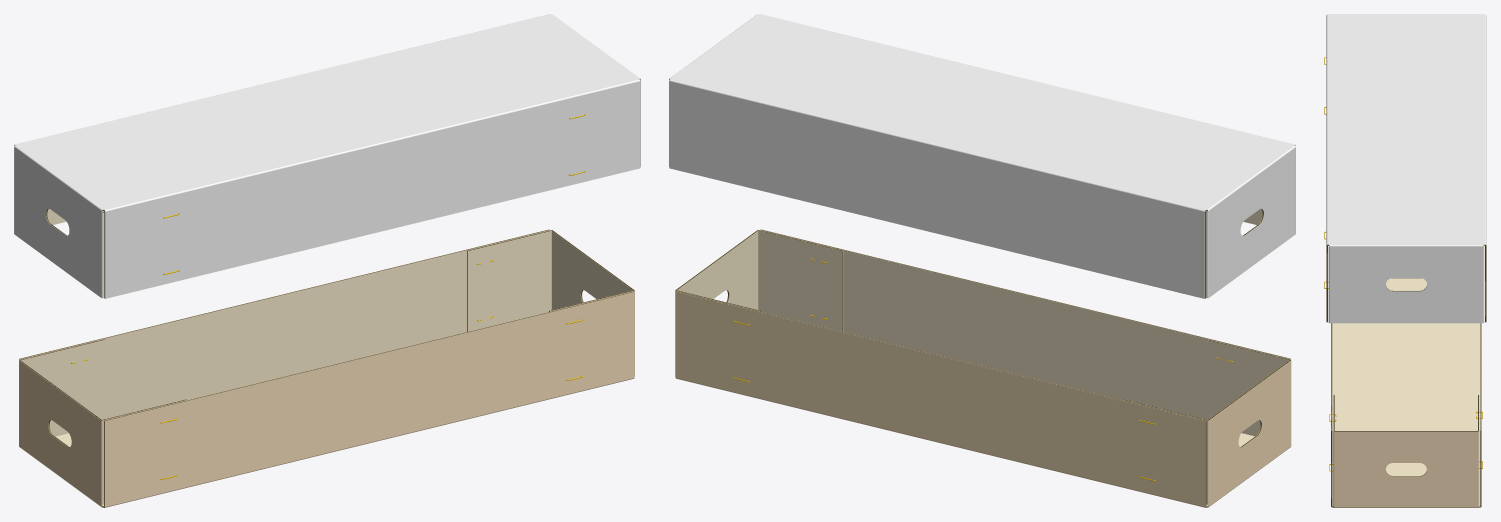
File: Troquel2c0439.gltf
3 renders of one model, left to right at view 1: azimuth 30°, elevation 25°; view 2: azimuth 150°, elevation 25°; view 3: azimuth 270°, elevation 25°, orthographic. The views are drawn at different scales.
Visible parts, largest first — view 1: _2C0439-2C0440_ARD_D2-node, _2C0439-2C0440_ARD-node; view 2: _2C0439-2C0440_ARD_D2-node, _2C0439-2C0440_ARD-node; view 3: _2C0439-2C0440_ARD_D2-node, _2C0439-2C0440_ARD-node.
Boxes of the visible parts, left/top/right/bottom form: _2C0439-2C0440_ARD_D2-node: left=14, top=14, right=640, bottom=298; _2C0439-2C0440_ARD-node: left=19, top=229, right=634, bottom=507; _2C0439-2C0440_ARD_D2-node: left=669, top=14, right=1295, bottom=298; _2C0439-2C0440_ARD-node: left=675, top=229, right=1291, bottom=507; _2C0439-2C0440_ARD_D2-node: left=1326, top=14, right=1486, bottom=323; _2C0439-2C0440_ARD-node: left=1331, top=278, right=1481, bottom=507.
Bounding box in the file's own units: 1.47 × 0.7807 × 0.4336.
7 materials, 2 textured.
